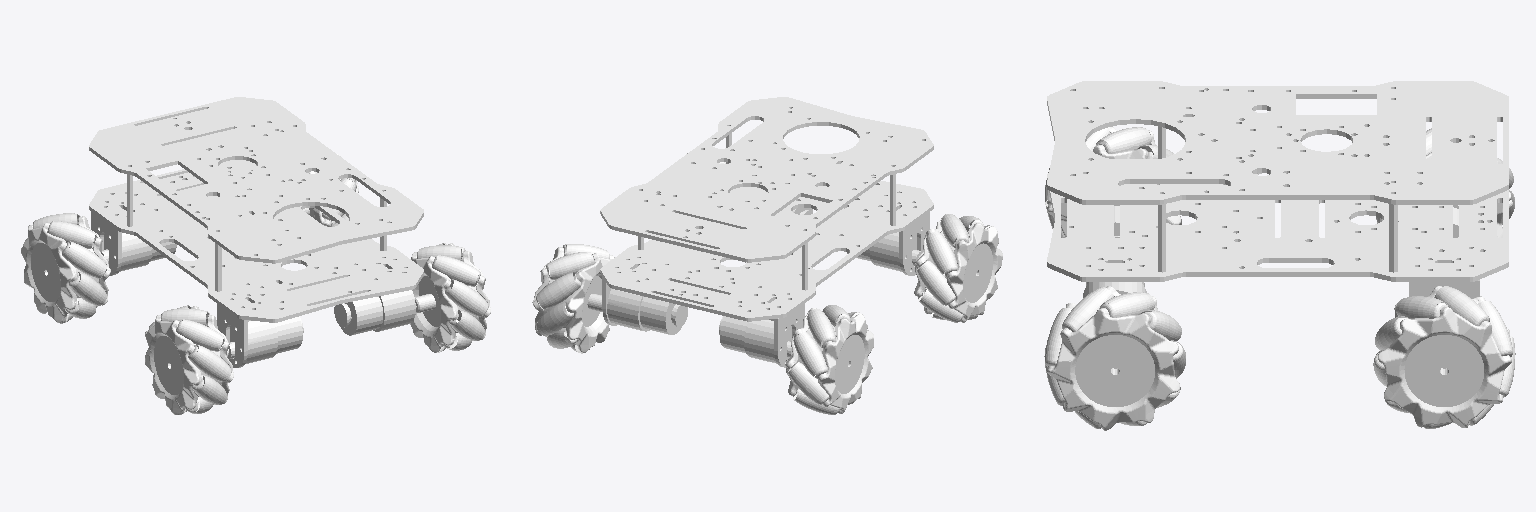
robot.urdf — 铝合金4驱底盘麦轮 -P1.STEP.SLDASM:
<?xml version="1.0" encoding="utf-8"?>
<!-- This URDF was automatically created by SolidWorks to URDF Exporter! Originally created by Stephen Brawner (brawner@gmail.com) 
     Commit Version: 1.6.0-4-g7f85cfe  Build Version: 1.6.7995.38578
     For more information, please see http://wiki.ros.org/sw_urdf_exporter -->
<robot
  name="铝合金4驱底盘麦轮 -P1.STEP.SLDASM">
  <link
    name="base_link">
    <inertial>
      <origin
        xyz="0 0 0"
        rpy="0 0 0" />
      <mass
        value="5.0" />
      <inertia
        ixx="0.05"
        ixy="0.0"
        ixz="0.0"
        iyy="0.08"
        iyz="0.0"
        izz="0.1" />
    </inertial>
    <visual>
      <origin
        xyz="0 0 0"
        rpy="0 0 0" />
      <geometry>
        <mesh
          filename="package://alloy_chassis_mecanum/meshes/base_link.STL" />
      </geometry>
      <material
        name="">
        <color
          rgba="1 1 1 1" />
      </material>
    </visual>
    <collision>
      <origin
        xyz="0 0 0"
        rpy="0 0 0" />
      <geometry>
        <mesh
          filename="package://alloy_chassis_mecanum/meshes/base_link.STL" />
      </geometry>
    </collision>
  </link>
  <link
    name="wheel1_Link">
    <inertial>
      <origin
        xyz="0 0 0"
        rpy="0 0 0" />
      <mass
        value="0.2" />
      <inertia
        ixx="0.001"
        ixy="0.0"
        ixz="0.0"
        iyy="0.001"
        iyz="0.0"
        izz="0.0005" />
    </inertial>
    <visual>
      <origin
        xyz="0 0 0"
        rpy="0 0 0" />
      <geometry>
        <mesh
          filename="package://alloy_chassis_mecanum/meshes/wheel1_Link.STL" />
      </geometry>
      <material
        name="">
        <color
          rgba="1 1 1 1" />
      </material>
    </visual>
    <collision>
      <origin
        xyz="0 0 0"
        rpy="0 0 0" />
      <geometry>
        <mesh
          filename="package://alloy_chassis_mecanum/meshes/wheel1_Link.STL" />
      </geometry>
    </collision>
  </link>
  <joint
    name="wheel1_joint"
    type="continuous">
    <origin
      xyz="-0.20133 -0.093736 -0.038912"
      rpy="1.5708 0.65624 -1.5708" />
    <parent
      link="base_link" />
    <child
      link="wheel1_Link" />
    <axis
      xyz="0 0 1" />
    <limit
      lower="-3.14159"
      upper="3.14159"
      effort="0.5"
      velocity="10.0" />
    <dynamics
      damping="0.1"
      friction="0.01" />
  </joint>
  <link
    name="wheel2_Link">
    <inertial>
      <origin
        xyz="0 0 0"
        rpy="0 0 0" />
      <mass
        value="0.2" />
      <inertia
        ixx="0.001"
        ixy="0.0"
        ixz="0.0"
        iyy="0.001"
        iyz="0.0"
        izz="0.0005" />
    </inertial>
    <visual>
      <origin
        xyz="0 0 0"
        rpy="0 0 0" />
      <geometry>
        <mesh
          filename="package://alloy_chassis_mecanum/meshes/wheel2_Link.STL" />
      </geometry>
      <material
        name="">
        <color
          rgba="1 1 1 1" />
      </material>
    </visual>
    <collision>
      <origin
        xyz="0 0 0"
        rpy="0 0 0" />
      <geometry>
        <mesh
          filename="package://alloy_chassis_mecanum/meshes/wheel2_Link.STL" />
      </geometry>
    </collision>
  </link>
  <joint
    name="wheel2_joint"
    type="continuous">
    <origin
      xyz="0 -0.093736 -0.038912"
      rpy="1.5708 1.0188 1.5708" />
    <parent
      link="base_link" />
    <child
      link="wheel2_Link" />
    <axis
      xyz="0 0 1" />
    <limit
      lower="-3.14159"
      upper="3.14159"
      effort="0.5"
      velocity="10.0" />
    <dynamics
      damping="0.1"
      friction="0.01" />
  </joint>
  <link
    name="wheel3_Link">
    <inertial>
      <origin
        xyz="0 0 0"
        rpy="0 0 0" />
      <mass
        value="0.2" />
      <inertia
        ixx="0.001"
        ixy="0.0"
        ixz="0.0"
        iyy="0.001"
        iyz="0.0"
        izz="0.0005" />
    </inertial>
    <visual>
      <origin
        xyz="0 0 0"
        rpy="0 0 0" />
      <geometry>
        <mesh
          filename="package://alloy_chassis_mecanum/meshes/wheel3_Link.STL" />
      </geometry>
      <material
        name="">
        <color
          rgba="1 1 1 1" />
      </material>
    </visual>
    <collision>
      <origin
        xyz="0 0 0"
        rpy="0 0 0" />
      <geometry>
        <mesh
          filename="package://alloy_chassis_mecanum/meshes/wheel3_Link.STL" />
      </geometry>
    </collision>
  </link>
  <joint
    name="wheel3_joint"
    type="continuous">
    <origin
      xyz="-0.20383 -0.27874 -0.038912"
      rpy="-1.5708 -1.2469 1.5708" />
    <parent
      link="base_link" />
    <child
      link="wheel3_Link" />
    <axis
      xyz="0 0 1" />
    <limit
      lower="-3.14159"
      upper="3.14159"
      effort="0.5"
      velocity="10.0" />
    <dynamics
      damping="0.1"
      friction="0.01" />
  </joint>
  <link
    name="wheel4_Link">
    <inertial>
      <origin
        xyz="0 0 0"
        rpy="0 0 0" />
      <mass
        value="0.2" />
      <inertia
        ixx="0.001"
        ixy="0.0"
        ixz="0.0"
        iyy="0.001"
        iyz="0.0"
        izz="0.0005" />
    </inertial>
    <visual>
      <origin
        xyz="0 0 0"
        rpy="0 0 0" />
      <geometry>
        <mesh
          filename="package://alloy_chassis_mecanum/meshes/wheel4_Link.STL" />
      </geometry>
      <material
        name="">
        <color
          rgba="1 1 1 1" />
      </material>
    </visual>
    <collision>
      <origin
        xyz="0 0 0"
        rpy="0 0 0" />
      <geometry>
        <mesh
          filename="package://alloy_chassis_mecanum/meshes/wheel4_Link.STL" />
      </geometry>
    </collision>
  </link>
  <joint
    name="wheel4_joint"
    type="continuous">
    <origin
      xyz="0 -0.27874 -0.038912"
      rpy="-1.5708 -0.9016 -1.5708" />
    <parent
      link="base_link" />
    <child
      link="wheel4_Link" />
    <axis
      xyz="0 0 1" />
    <limit
      lower="-3.14159"
      upper="3.14159"
      effort="0.5"
      velocity="10.0" />
    <dynamics
      damping="0.1"
      friction="0.01" />
  </joint>
</robot>

--- Render facts (derived) ---
Views: 3 orthographic renders of the robot side by side, from view 1: azimuth 30°, elevation 25°; view 2: azimuth 150°, elevation 25°; view 3: azimuth 270°, elevation 25°.
Model 铝合金4驱底盘麦轮 -P1.STEP.SLDASM with 5 links and 4 joints (4 continuous), rooted at base_link, posed every joint at zero.
Links seen in each view (by area): view 1: base_link, wheel1_Link, wheel3_Link, wheel4_Link, wheel2_Link; view 2: base_link, wheel1_Link, wheel3_Link, wheel2_Link; view 3: base_link, wheel2_Link, wheel4_Link, wheel3_Link, wheel1_Link.
Boxes of the visible links, x1,y1,x2,y2 form: base_link: [89, 97, 423, 367]; wheel1_Link: [21, 213, 110, 323]; wheel3_Link: [145, 305, 233, 414]; wheel4_Link: [410, 243, 490, 352]; wheel2_Link: [303, 154, 358, 226]; base_link: [600, 97, 933, 367]; wheel1_Link: [785, 305, 873, 414]; wheel3_Link: [914, 214, 1002, 322]; wheel2_Link: [532, 244, 614, 353]; base_link: [1047, 81, 1508, 298]; wheel2_Link: [1373, 286, 1515, 428]; wheel4_Link: [1044, 286, 1185, 430]; wheel3_Link: [1045, 127, 1181, 237]; wheel1_Link: [1376, 128, 1514, 237].
Size in the robot's own frame: 0.2557 by 0.2647 by 0.1249 metres.
5 mesh visuals loaded from 5 distinct referenced files (5 binary STL).
